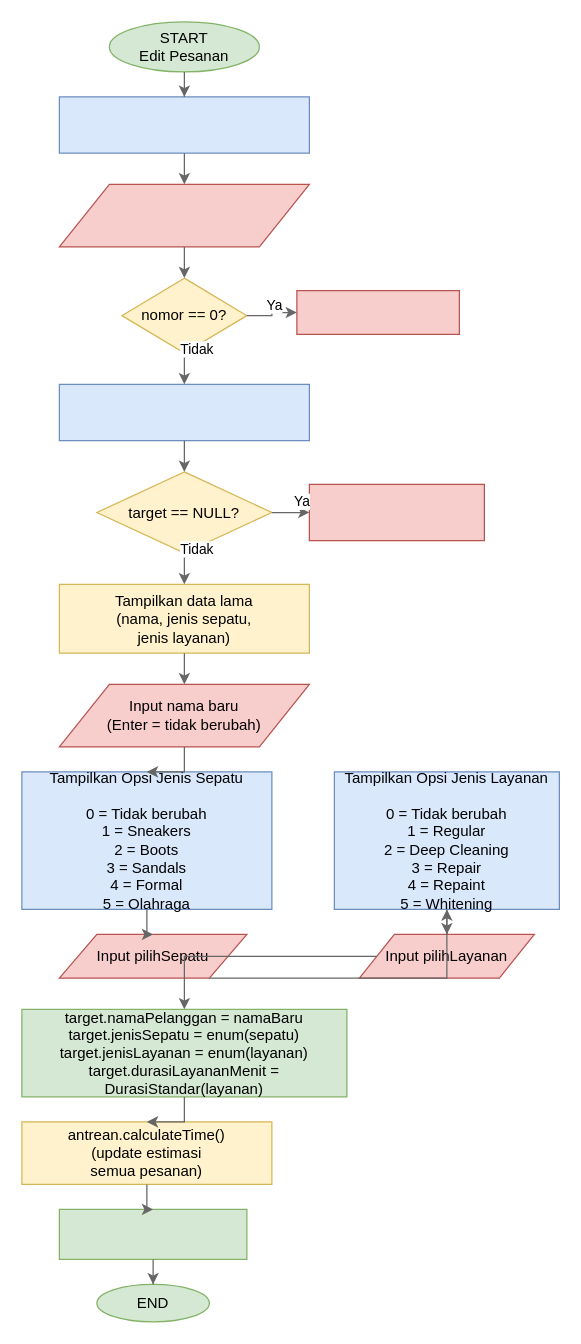
The diagram is 581 pixels wide and 1344 high, and some of its shapes have lost their labels. Each missing label, with the centre of its shape:
"Input nomor pesanan yang ingin diedit" belongs at [183,215].
"Kembali ke Menu" belongs at [377,311].
"Tampilkan 'Index Tidak Valid'" belongs at [396,512].
"Tampilkan 'Pesanan Diupdate'" belongs at [152,1233].
"Tampilkan semua pesanan di antrean" belongs at [183,124].
"target = antrean.getAt(index) (index = nomor - 1)" belongs at [183,412].
